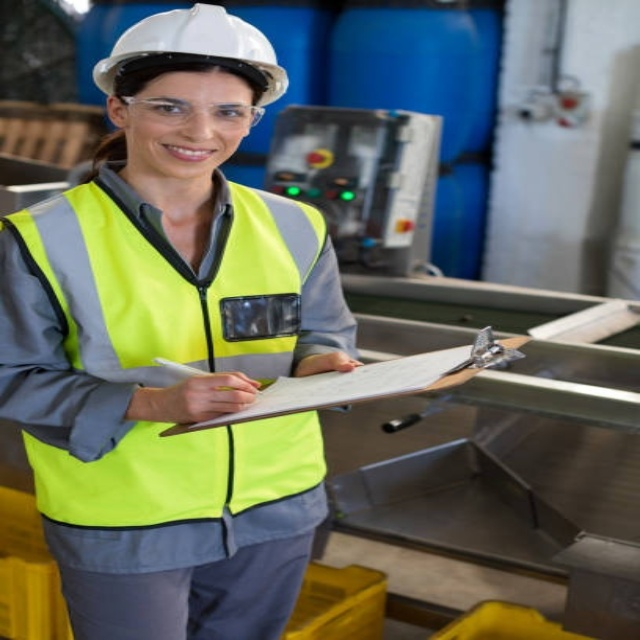Gafas: (121, 96, 265, 132)
Sin_guantes: (154, 361, 267, 422)
Sin_mascara: (154, 134, 231, 173)
